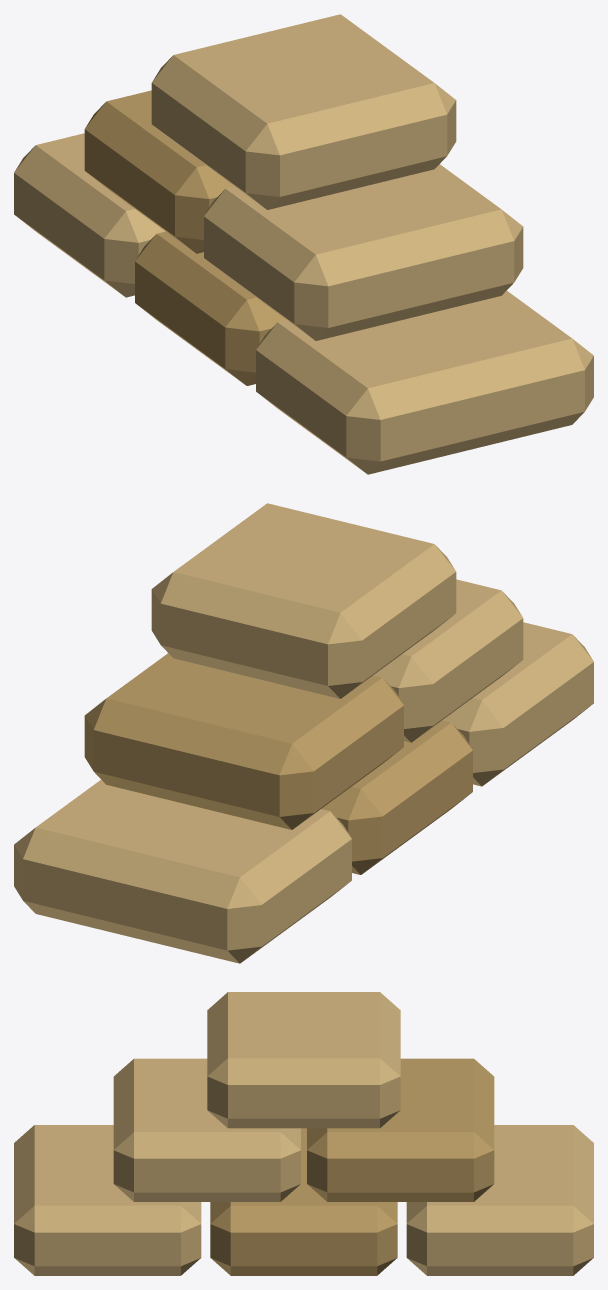
File: barrier_b.glb
3 renders of one model, top to bottom at view 1: azimuth 30°, elevation 25°; view 2: azimuth 150°, elevation 25°; view 3: azimuth 270°, elevation 25°, orthographic. The views are drawn at different scales.
Visible parts, largest first — view 1: barrier_b; view 2: barrier_b; view 3: barrier_b.
Part boxes in pixels (bbox=[...]): barrier_b: bbox=[14, 14, 593, 474]; barrier_b: bbox=[14, 503, 593, 963]; barrier_b: bbox=[14, 992, 593, 1275].
Bounding box in the file's own units: 0.8 × 0.8 × 2.
Materials: 1 (1 with a texture image).
